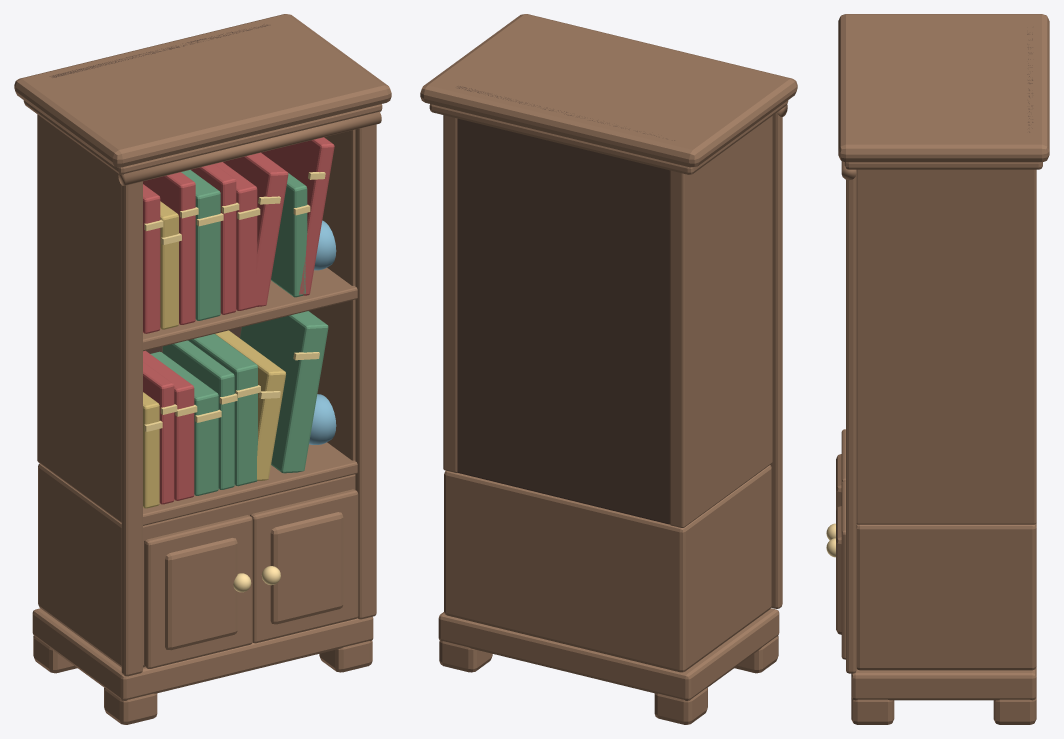
The model's file is bookcase.glb.
The picture shows the model from 3 angles, left to right: view 1: azimuth 30°, elevation 25°; view 2: azimuth 150°, elevation 25°; view 3: azimuth 270°, elevation 25°; orthographic projection.
Visible parts, largest first — view 1: bookcase; view 2: bookcase; view 3: bookcase.
Part boxes in pixels (bbox=[...]): bookcase: bbox=[14, 14, 391, 724]; bookcase: bbox=[420, 14, 797, 724]; bookcase: bbox=[826, 14, 1049, 724].
Bounding box in the file's own units: 1.5 × 3 × 1.04.
